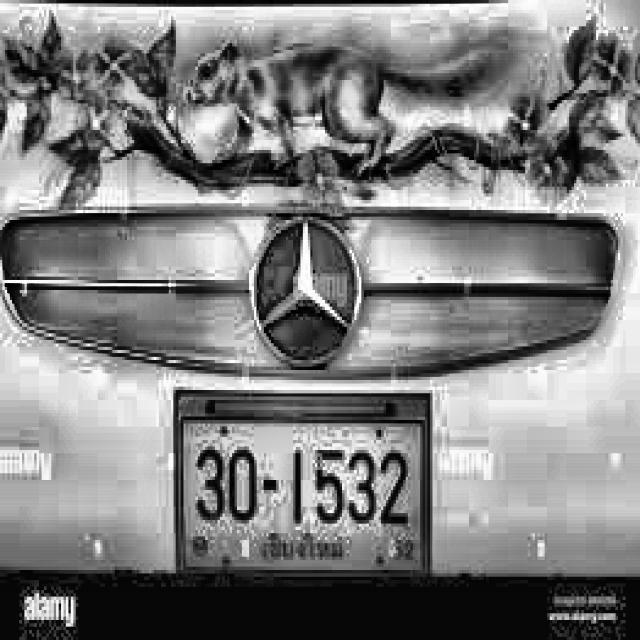license-plate: (177, 403, 429, 574)
